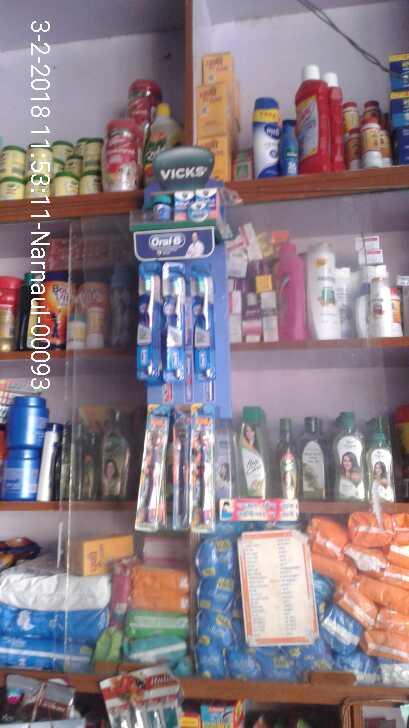beauty: (308, 241, 345, 339)
pharmacy: (132, 179, 228, 225), (187, 271, 220, 378), (162, 272, 187, 376), (143, 261, 161, 372)
